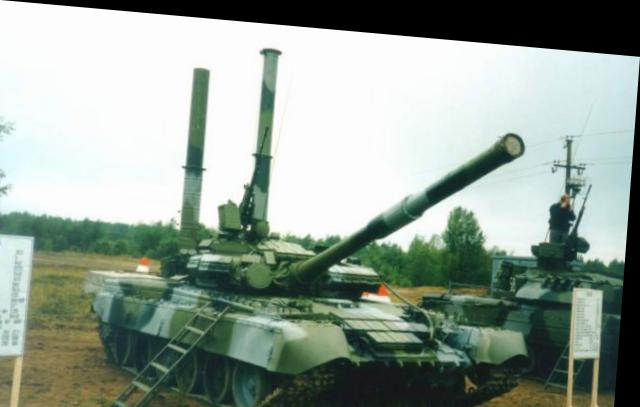tank: (103, 216, 527, 406), (437, 244, 627, 347)
